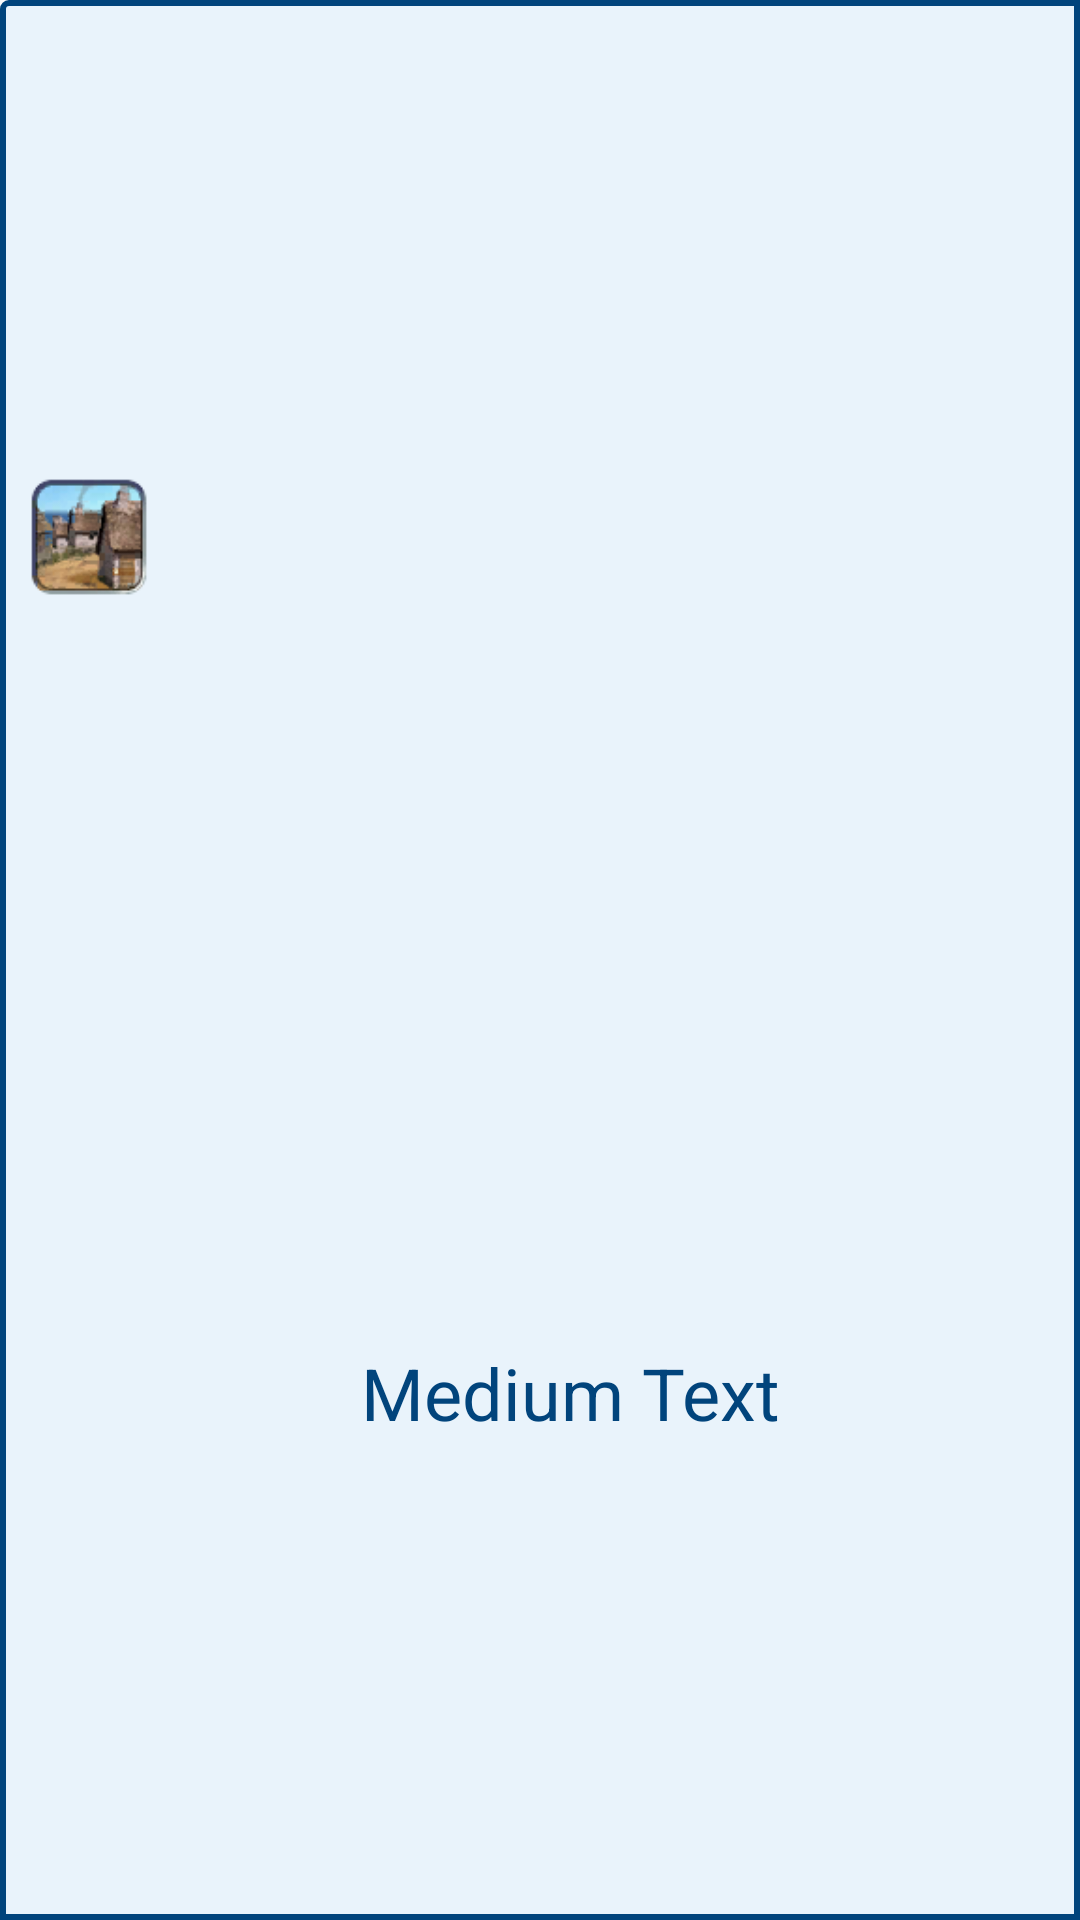

Icons on this 1080px x 1920px Android screen, each with its box as (x1, y1, x2, y2):
buildtown: (31, 479, 147, 595)
